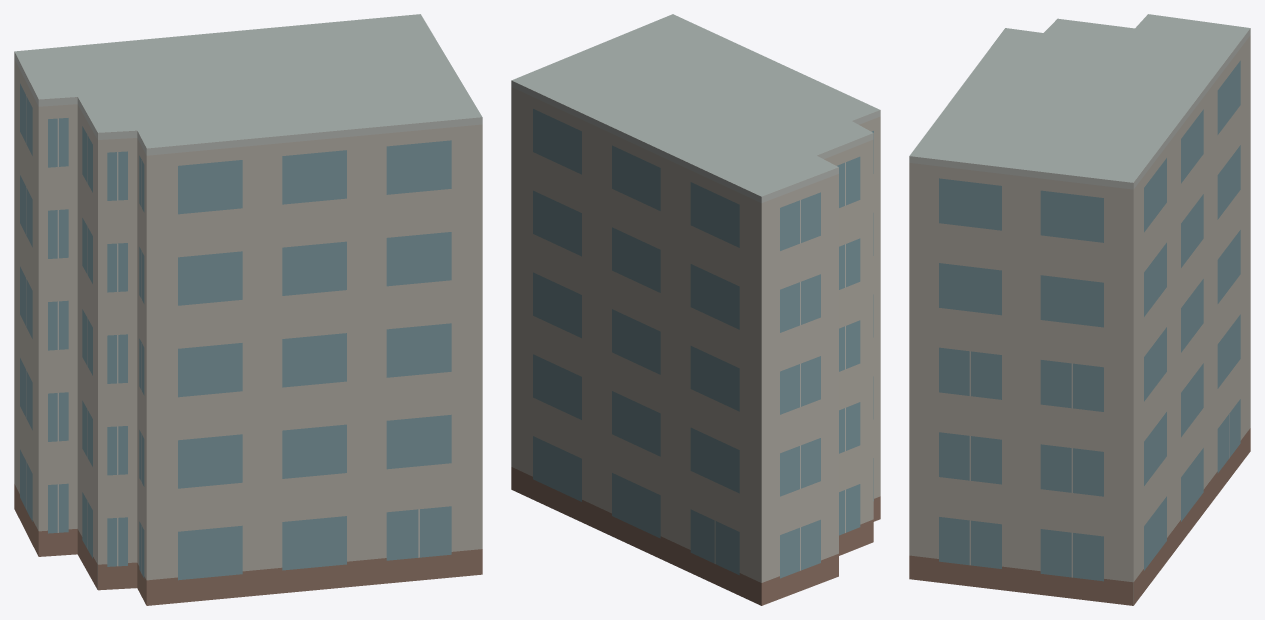
File: survey-upis-32872243.glb
The picture shows the model from 3 angles, left to right: view 1: azimuth 30°, elevation 25°; view 2: azimuth 150°, elevation 25°; view 3: azimuth 270°, elevation 25°; orthographic projection. The views are drawn at different scales.
Visible parts, largest first — view 1: survey-upis-32872243.tmp; view 2: survey-upis-32872243.tmp; view 3: survey-upis-32872243.tmp.
Part boxes in pixels (x1,y1,x2,y2): survey-upis-32872243.tmp: [14, 14, 482, 605]; survey-upis-32872243.tmp: [511, 14, 880, 605]; survey-upis-32872243.tmp: [909, 14, 1250, 605].
Bounding box in the file's own units: 13.19 × 15.4 × 11.27.
